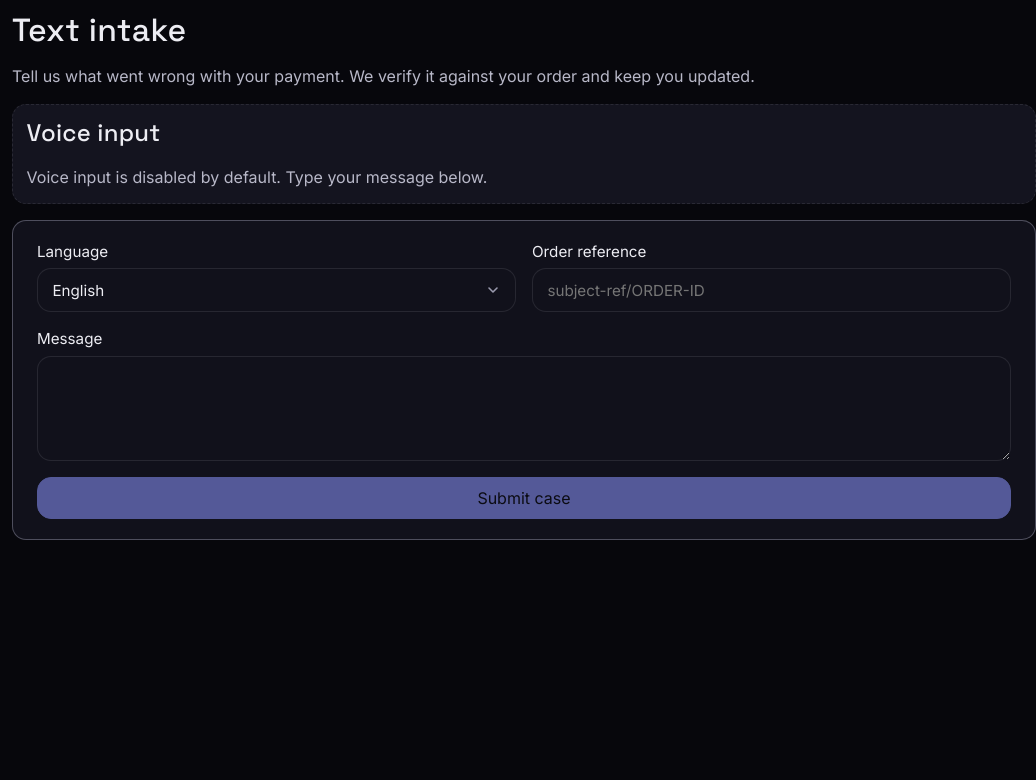
Test: standalone browser checks › intake shows permission and error states
The width and height of the screenshot is (1036, 780).
Later steps or results of the test are not shown.
Type "subject-demo-9/DEMO-ORDER-42" into the field labelled "Order reference" at (772, 290), box [532,268,1011,312]
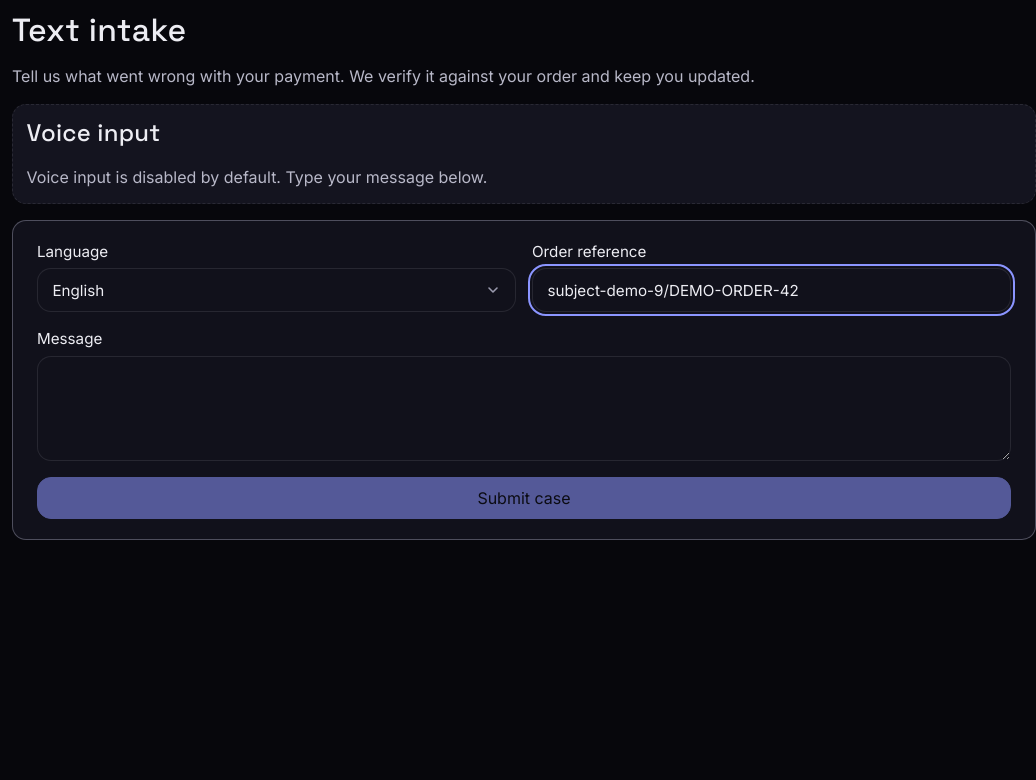
Type "hello" into the text box named "Complaint message" at (524, 408), box [37,356,1011,461]
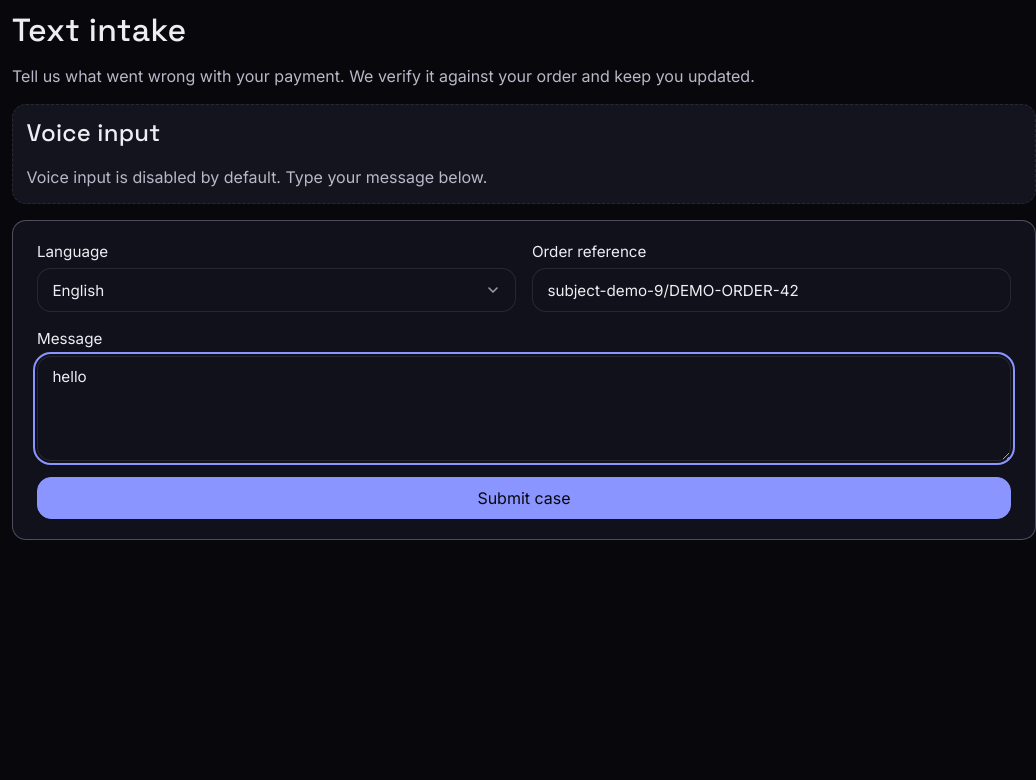
Click the button "Submit case" at (524, 498), box [37,477,1011,520]
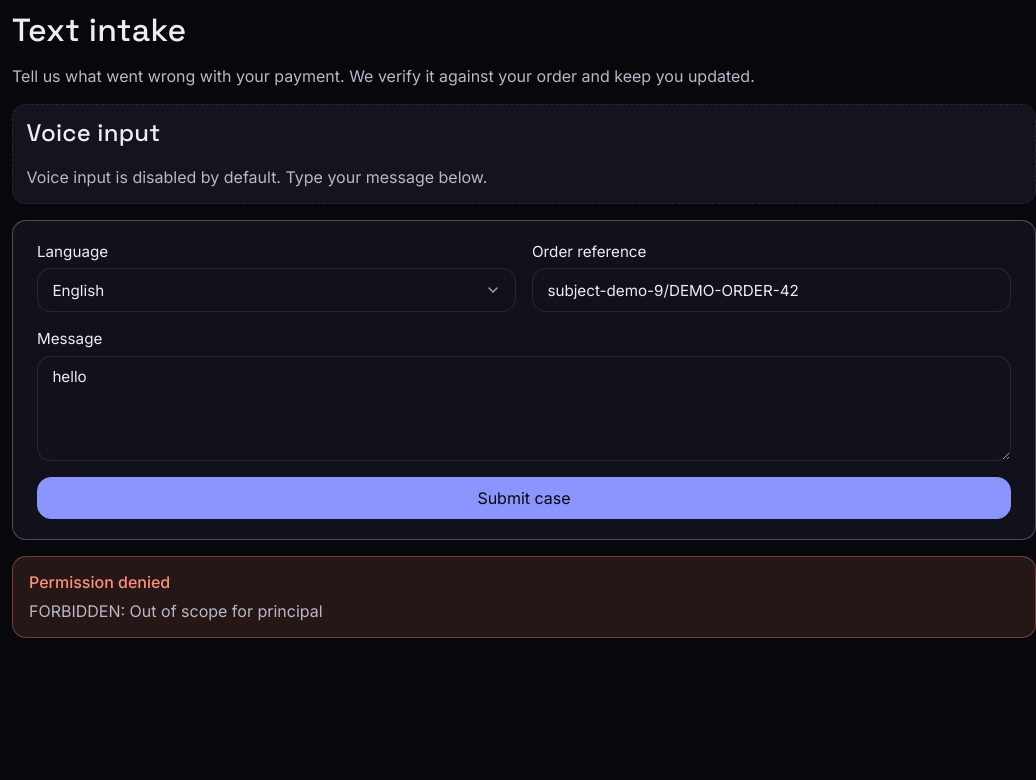
expect the message with test id "state-permission" shows "FORBIDDEN": met, box [29,601,323,621]
